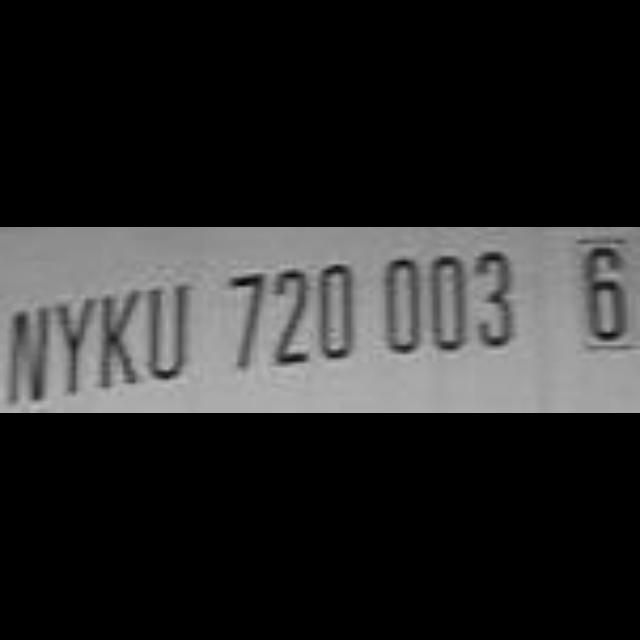0: (373, 252, 423, 362), (314, 258, 361, 370), (426, 248, 470, 356)
2: (269, 262, 315, 376)
3: (472, 245, 522, 357)
6: (576, 239, 636, 351)
7: (221, 266, 269, 379)
k: (100, 288, 140, 400)
n: (0, 299, 54, 413)
u: (144, 277, 190, 387)
y: (51, 292, 100, 400)
